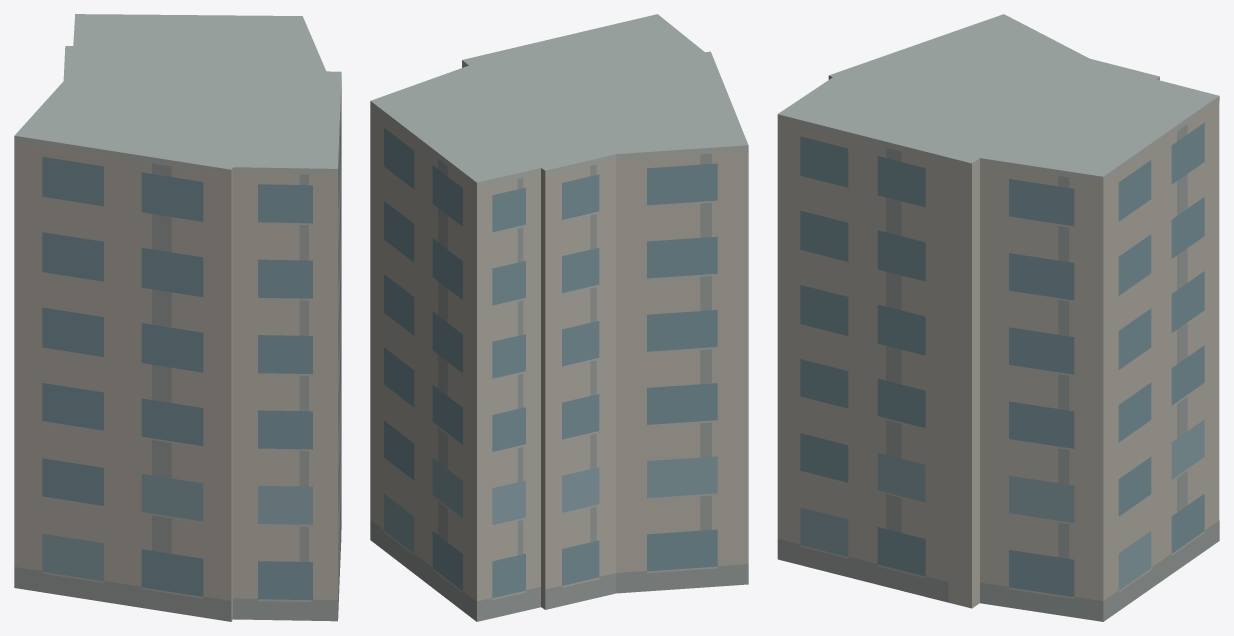
The model's file is survey-upis-32489979.glb.
The picture shows the model from 3 angles, left to right: view 1: azimuth 30°, elevation 25°; view 2: azimuth 150°, elevation 25°; view 3: azimuth 270°, elevation 25°; orthographic projection. The views are drawn at different scales.
Parts seen in each view (by area): view 1: survey-upis-32489979.tmp; view 2: survey-upis-32489979.tmp; view 3: survey-upis-32489979.tmp.
Part boxes in pixels (<box>): survey-upis-32489979.tmp: <box>14,14,341,621</box>; survey-upis-32489979.tmp: <box>370,14,748,621</box>; survey-upis-32489979.tmp: <box>777,14,1219,621</box>.
Size of the model in its own units: 14.15 by 18.03 by 16.23.
